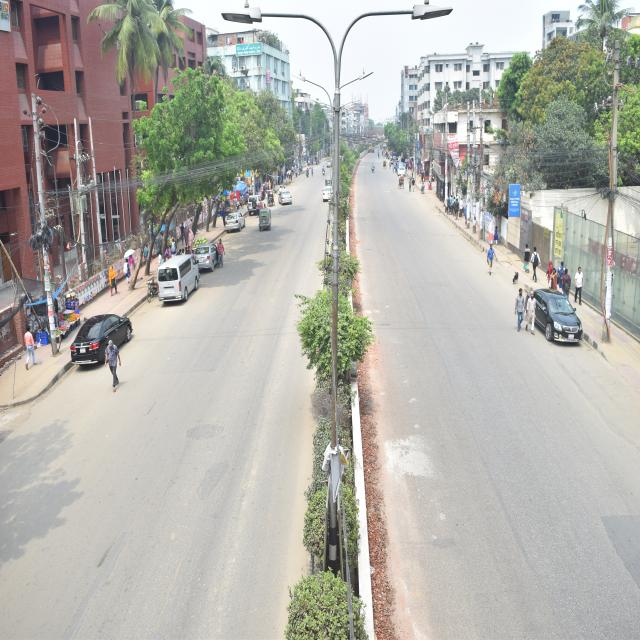car: (520, 269, 605, 355), (61, 303, 147, 381), (188, 228, 222, 278), (218, 204, 246, 244), (243, 191, 274, 218), (274, 186, 294, 214), (322, 183, 338, 210)
microbus: (150, 242, 214, 314)
motorbike: (366, 156, 382, 188), (321, 164, 328, 178)
